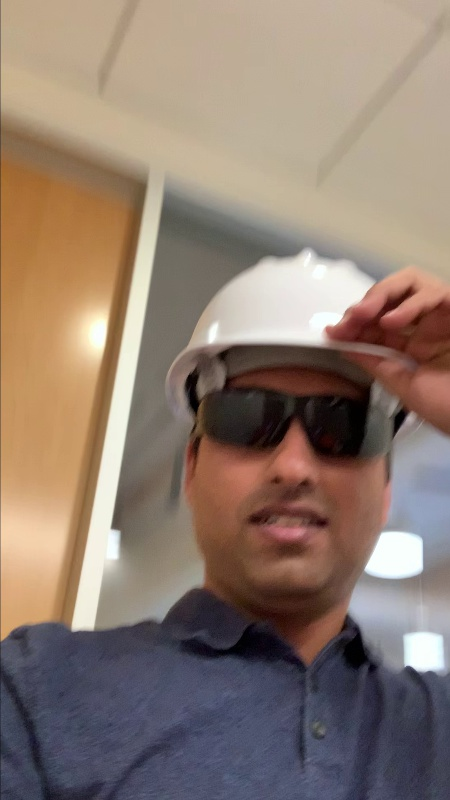glasses: (188, 387, 420, 470)
helmet: (166, 248, 450, 394)
